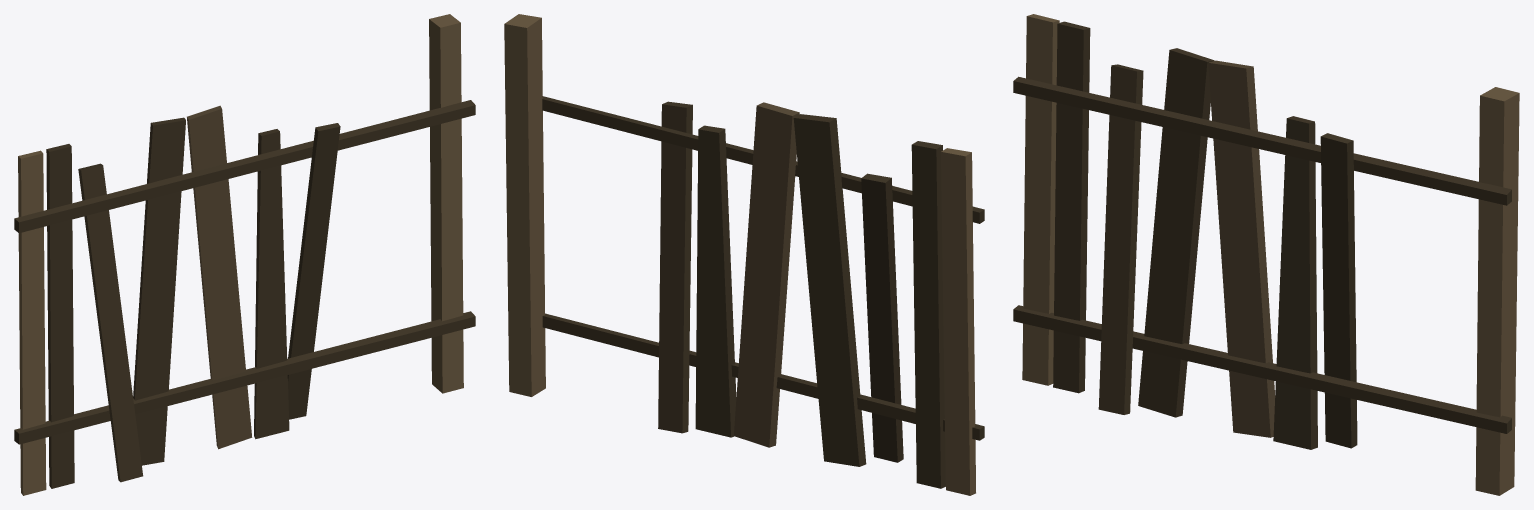
File: EA03_Fence_Plank_02c.glb
The picture shows the model from 3 angles, left to right: view 1: azimuth 30°, elevation 25°; view 2: azimuth 150°, elevation 25°; view 3: azimuth 330°, elevation 25°; orthographic projection. The views are drawn at different scales.
Visible parts, largest first — view 1: EA03_Fence_Plank_02c; view 2: EA03_Fence_Plank_02c; view 3: EA03_Fence_Plank_02c.
Part boxes in pixels (left/top/right/bottom): EA03_Fence_Plank_02c: left=14, top=14, right=475, bottom=495; EA03_Fence_Plank_02c: left=504, top=14, right=984, bottom=495; EA03_Fence_Plank_02c: left=1013, top=14, right=1519, bottom=495.
Size of the model in its own units: 4 by 3.05 by 0.4658.
1 material, 1 textured.
